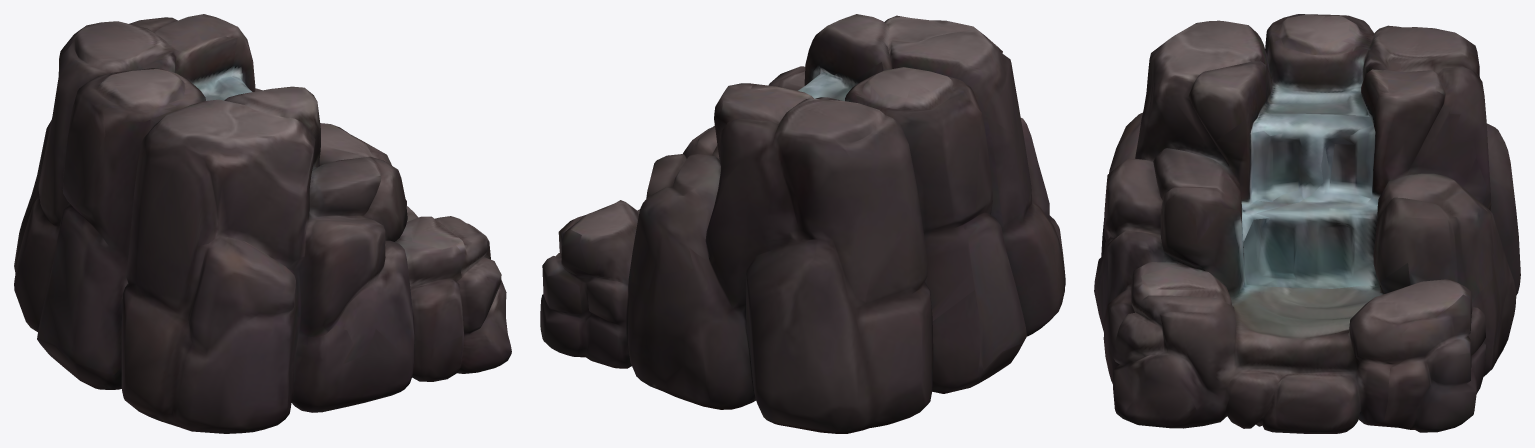
The model's file is t11_cachoeira_rocha.glb.
3 views of the same model, side by side, from view 1: azimuth 30°, elevation 25°; view 2: azimuth 150°, elevation 25°; view 3: azimuth 270°, elevation 25° (orthographic). The views are drawn at different scales.
Visible parts, largest first — view 1: t11_cachoeira_rocha; view 2: t11_cachoeira_rocha; view 3: t11_cachoeira_rocha.
Part boxes in pixels (box(x1,y1,x2,y2)): t11_cachoeira_rocha: box(14, 14, 511, 433); t11_cachoeira_rocha: box(540, 14, 1065, 433); t11_cachoeira_rocha: box(1094, 14, 1520, 433).
Size of the model in its own units: 1.17 by 0.7846 by 1.13.
Materials: 1 (1 with a texture image).
